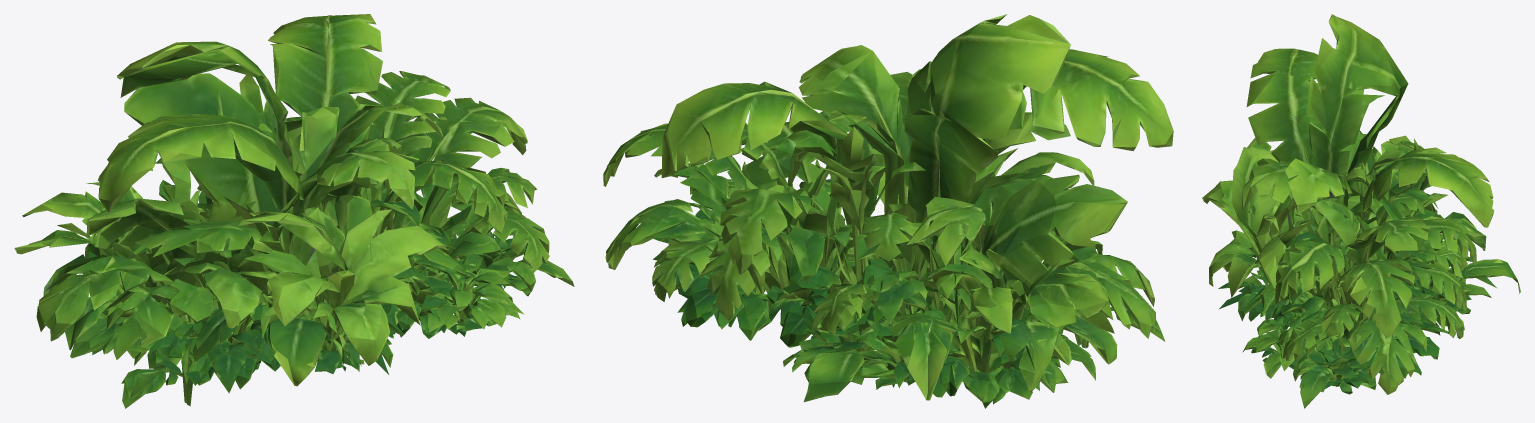
File: bush_cluster.rt.glb
3 views of the same model, side by side, from view 1: azimuth 30°, elevation 25°; view 2: azimuth 150°, elevation 25°; view 3: azimuth 270°, elevation 25° (orthographic). The views are drawn at different scales.
Parts seen in each view (by area): view 1: output_unwrapped; view 2: output_unwrapped; view 3: output_unwrapped.
Boxes of the visible parts, x1,y1,x2,y2 form: output_unwrapped: (14,14,574,408); output_unwrapped: (603,14,1173,408); output_unwrapped: (1202,14,1520,408).
Size of the model in its own units: 1.9 by 1.21 by 1.35.
1 material, 1 textured.
